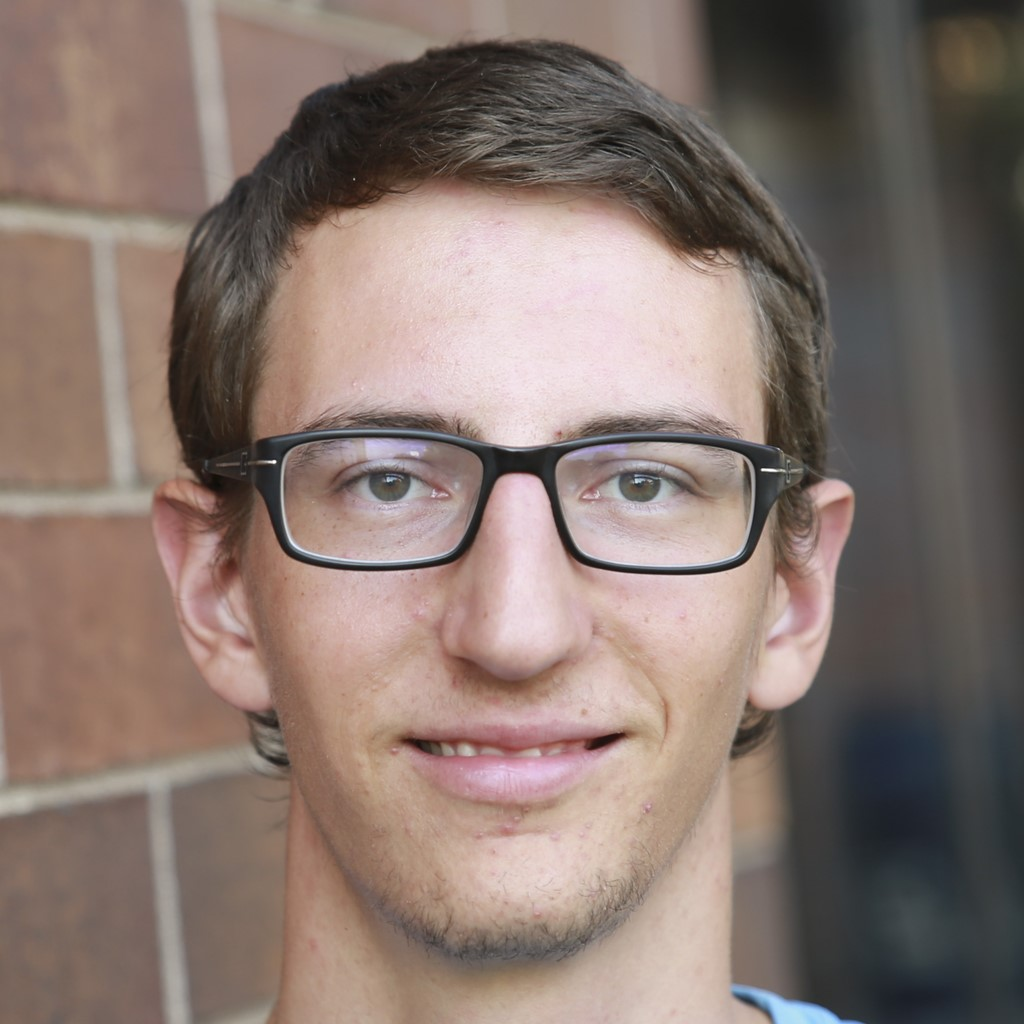sin_mascara: (181, 169, 826, 931)
